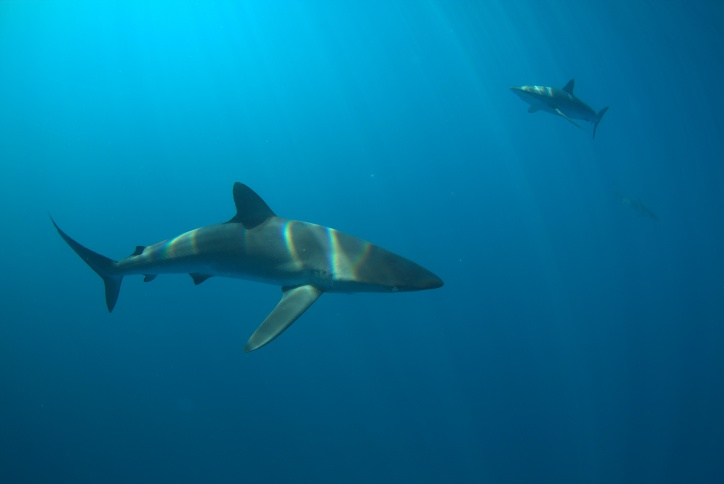Sedoso: (44, 167, 456, 358)
